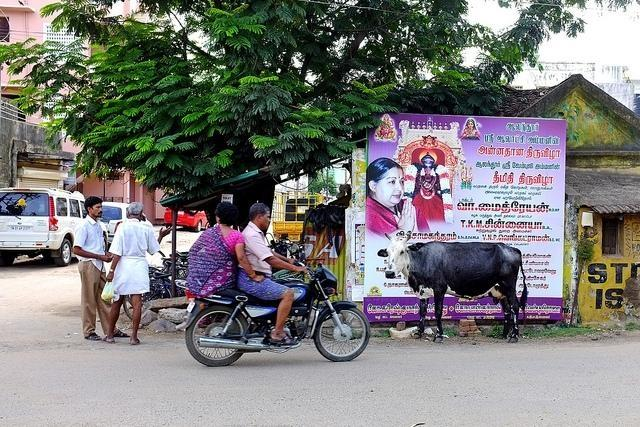car: (0, 184, 88, 268), (100, 202, 153, 252), (162, 208, 210, 233)
motorcycle: (176, 257, 372, 366)
